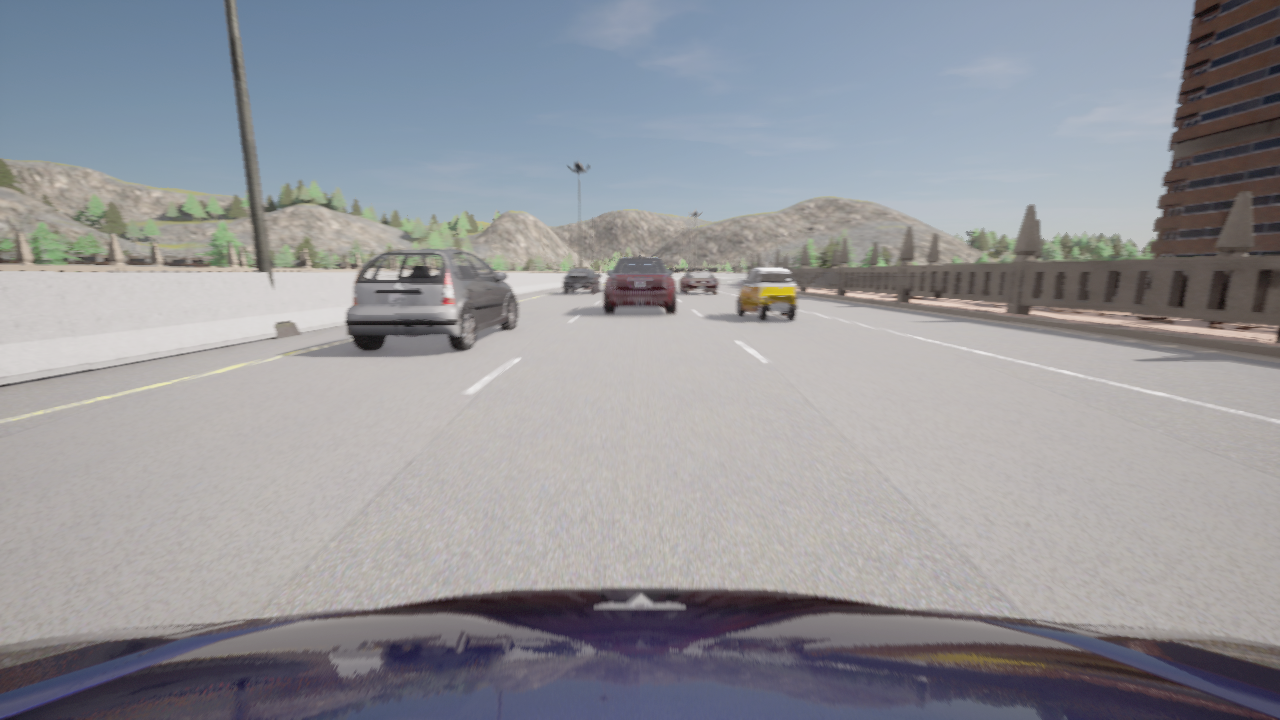cyclist: (0, 588, 1279, 719), (345, 249, 518, 351), (604, 255, 675, 313), (737, 267, 797, 320), (564, 268, 601, 293), (680, 272, 718, 293)
